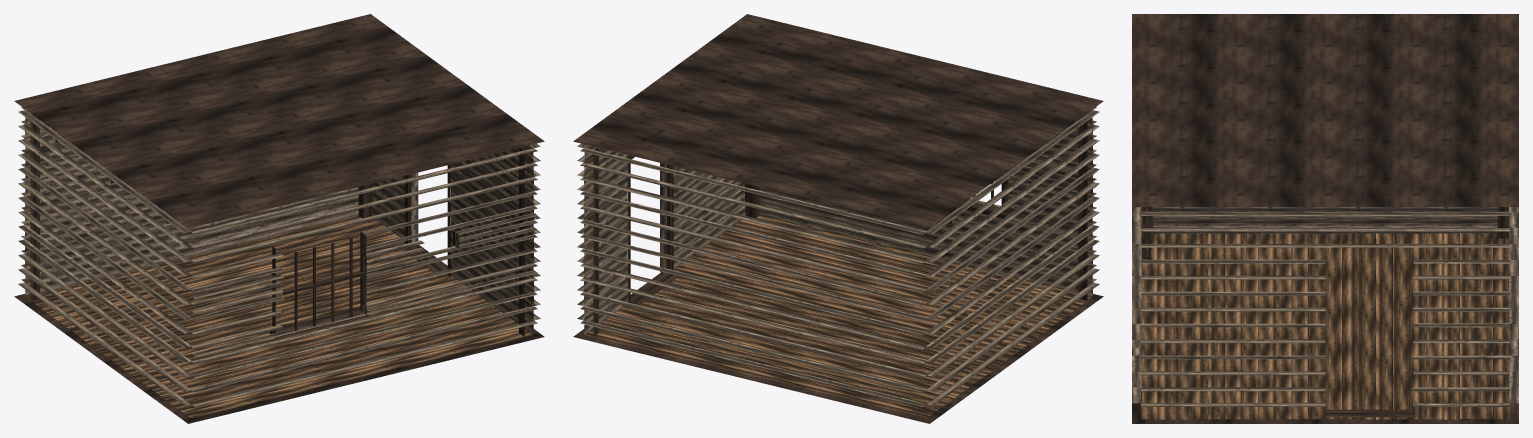
File: ThaiHouse_Interior.glb
The picture shows the model from 3 angles, left to right: view 1: azimuth 30°, elevation 25°; view 2: azimuth 150°, elevation 25°; view 3: azimuth 270°, elevation 25°; orthographic projection. The views are drawn at different scales.
Parts seen in each view (by area): view 1: M_Dark_Wood, M_Wall_Planks, M_Floor_Planks; view 2: M_Dark_Wood, M_Wall_Planks, M_Floor_Planks; view 3: M_Dark_Wood, M_Floor_Planks, M_Wall_Planks.
Boxes of the visible parts, x1,y1,x2,y2 form: M_Dark_Wood: (14, 14, 544, 423); M_Wall_Planks: (18, 107, 540, 406); M_Floor_Planks: (25, 215, 532, 418); M_Dark_Wood: (573, 14, 1103, 423); M_Wall_Planks: (577, 107, 1099, 406); M_Floor_Planks: (585, 215, 1092, 418); M_Dark_Wood: (1132, 14, 1518, 423); M_Floor_Planks: (1141, 233, 1509, 419); M_Wall_Planks: (1132, 207, 1518, 406).
Bounding box in the file's own units: 5.2 × 2.72 × 4.4.
3 materials, 3 textured.
